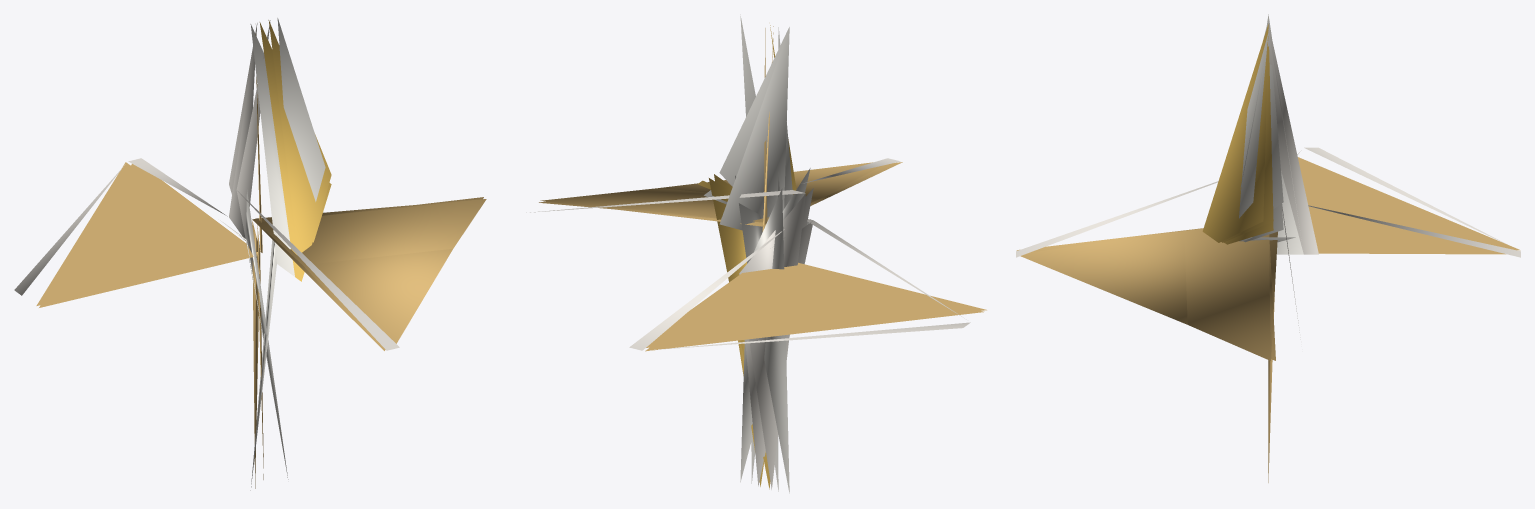
The model's file is npc_chicken_walk.glb.
3 views of the same model, side by side, from view 1: azimuth 30°, elevation 25°; view 2: azimuth 150°, elevation 25°; view 3: azimuth 270°, elevation 25° (orthographic). The views are drawn at different scales.
Visible parts, largest first — view 1: npc_chicken_walk; view 2: npc_chicken_walk; view 3: npc_chicken_walk.
Boxes of the visible parts, left/top/right/bottom form: npc_chicken_walk: left=14, top=18, right=486, bottom=490; npc_chicken_walk: left=526, top=14, right=986, bottom=493; npc_chicken_walk: left=1016, top=14, right=1520, bottom=482.
Bounding box in the file's own units: 2 × 2 × 2.
